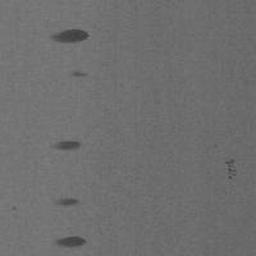Oil spot: (49, 27, 92, 45), (51, 234, 88, 250), (223, 155, 241, 186), (49, 140, 83, 152), (51, 196, 81, 209), (68, 69, 88, 78)
